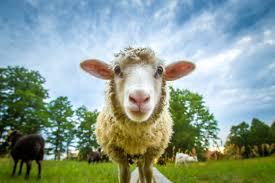koyun: (79, 42, 196, 183)
